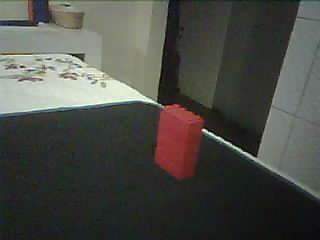lego: (153, 103, 206, 180)
